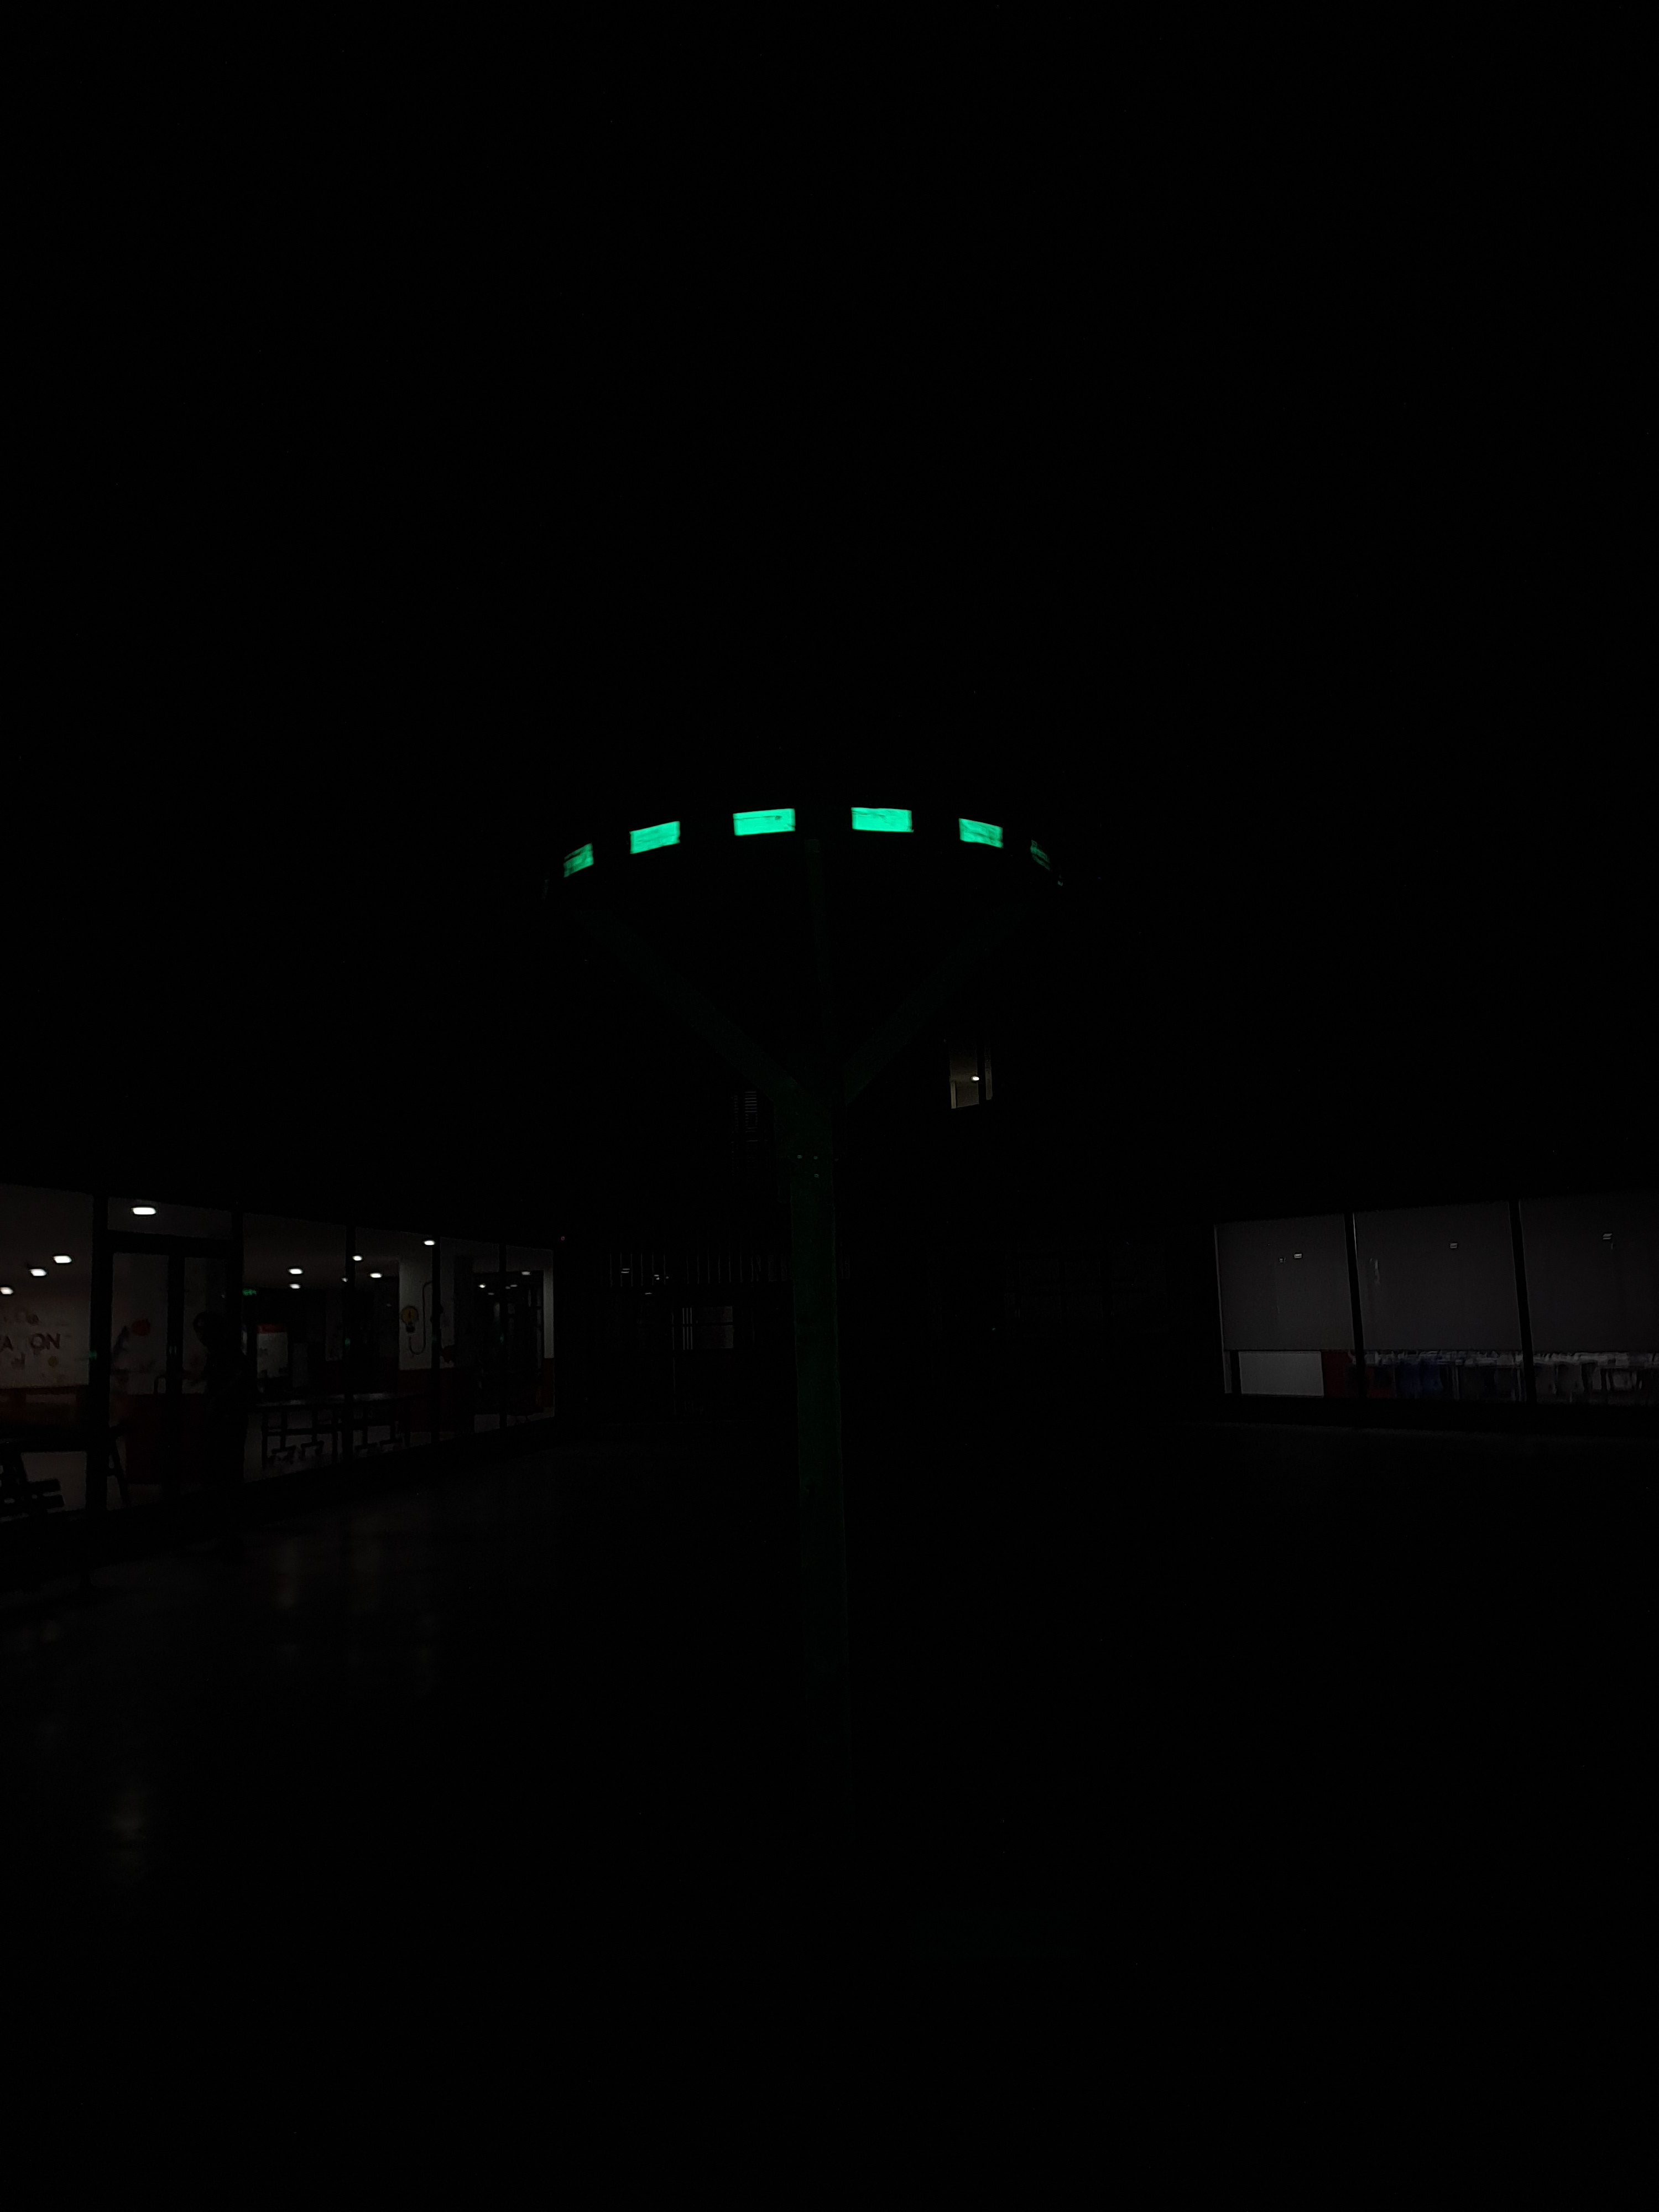hoop: (559, 798, 1009, 887)
